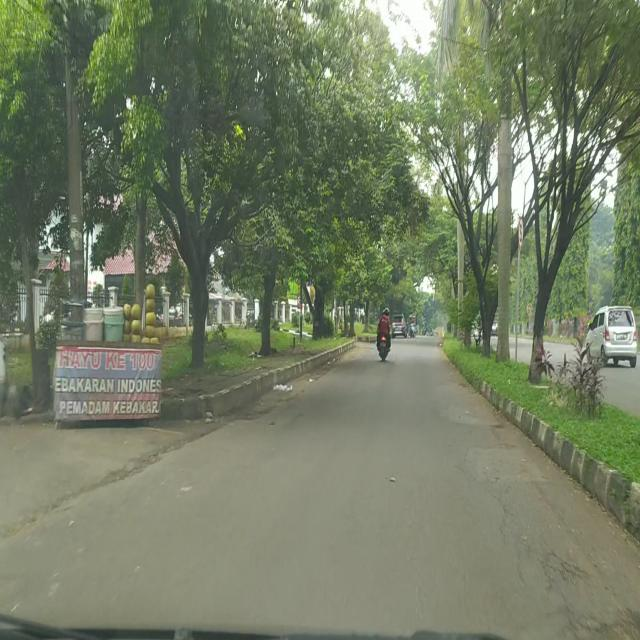Drain Hole: (540, 548, 589, 590)
